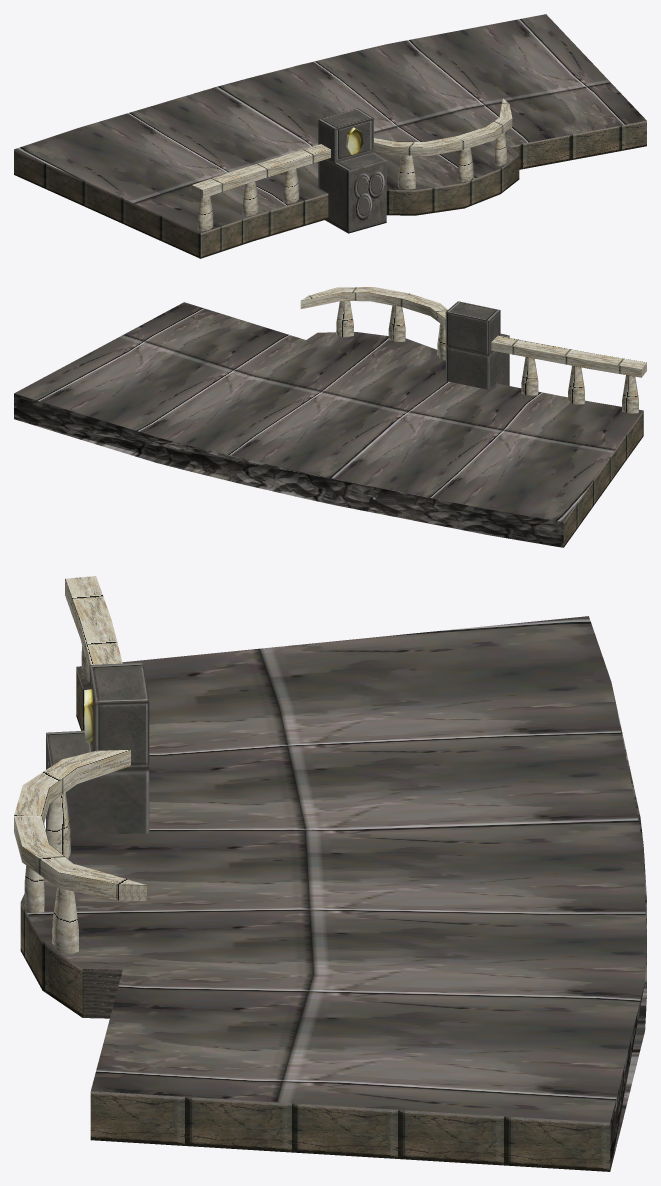
The model's file is INST_SM_WALKWAYB.fbx.
3 renders of one model, top to bottom at view 1: azimuth 30°, elevation 25°; view 2: azimuth 150°, elevation 25°; view 3: azimuth 270°, elevation 25°, orthographic. The views are drawn at different scales.
Parts seen in each view (by area): view 1: INST_SM_WALKWAYB; view 2: INST_SM_WALKWAYB; view 3: INST_SM_WALKWAYB.
Part boxes in pixels (<box>): INST_SM_WALKWAYB: <box>14,14,646,258</box>; INST_SM_WALKWAYB: <box>14,287,646,547</box>; INST_SM_WALKWAYB: <box>14,576,646,1171</box>.
Bounding box in the file's own units: 134900 × 23218 × 71221.
6 materials, 6 textured.
